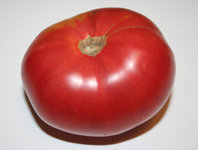tomato: (20, 6, 176, 133)
